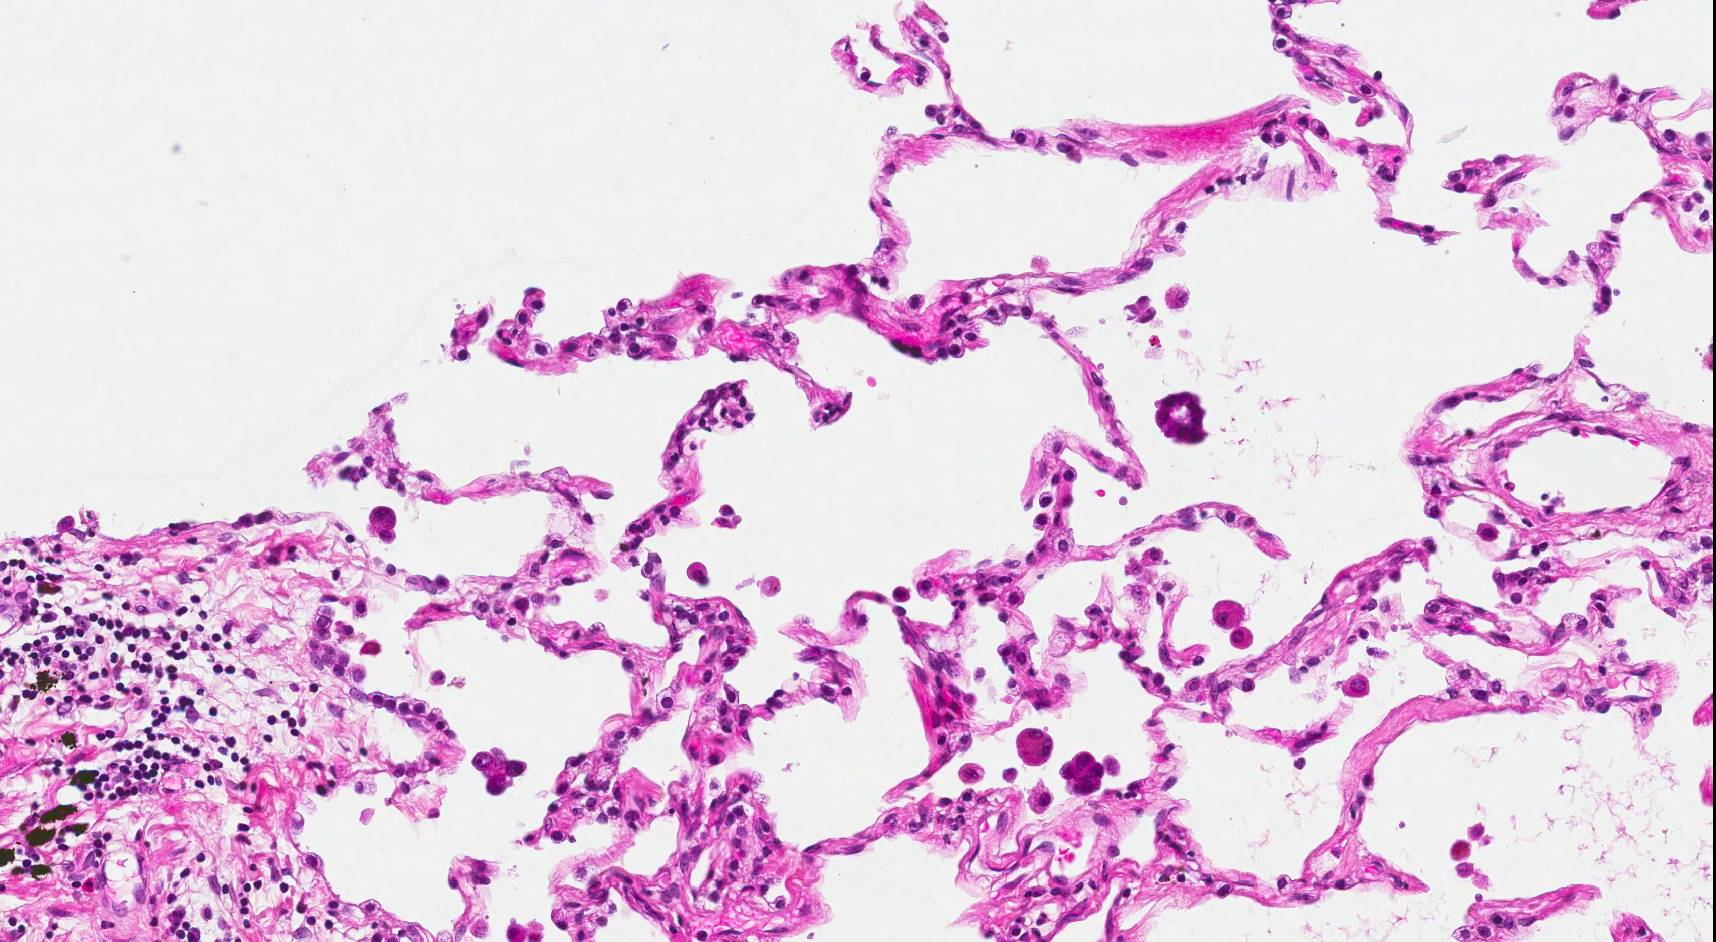stas: (1153, 390, 1211, 448), (471, 747, 528, 799), (1060, 746, 1108, 801)
